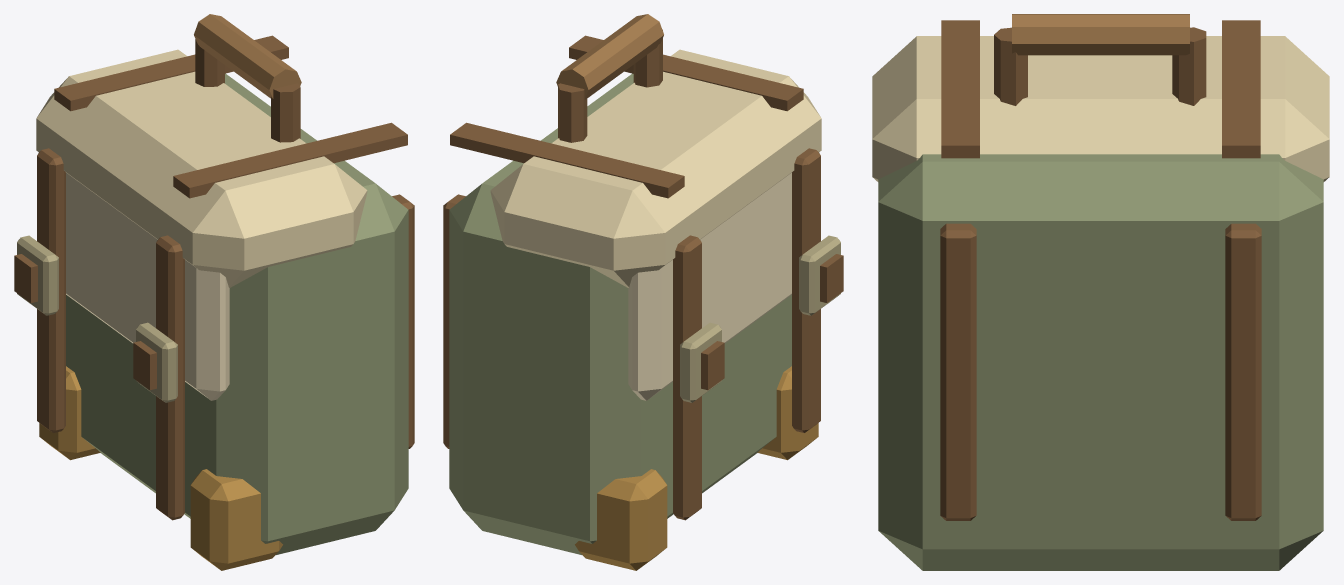
The model's file is SM_CampSatchel.fbx.
The picture shows the model from 3 angles, left to right: view 1: azimuth 30°, elevation 25°; view 2: azimuth 150°, elevation 25°; view 3: azimuth 270°, elevation 25°; orthographic projection. The views are drawn at different scales.
Parts seen in each view (by area): view 1: SM_CampSatchel; view 2: SM_CampSatchel; view 3: SM_CampSatchel.
Boxes of the visible parts, x1,y1,x2,y2 form: SM_CampSatchel: (14, 14, 414, 570); SM_CampSatchel: (443, 14, 843, 570); SM_CampSatchel: (872, 14, 1329, 570).
Bounding box in the file's own units: 0.6105 × 0.77 × 0.977.
